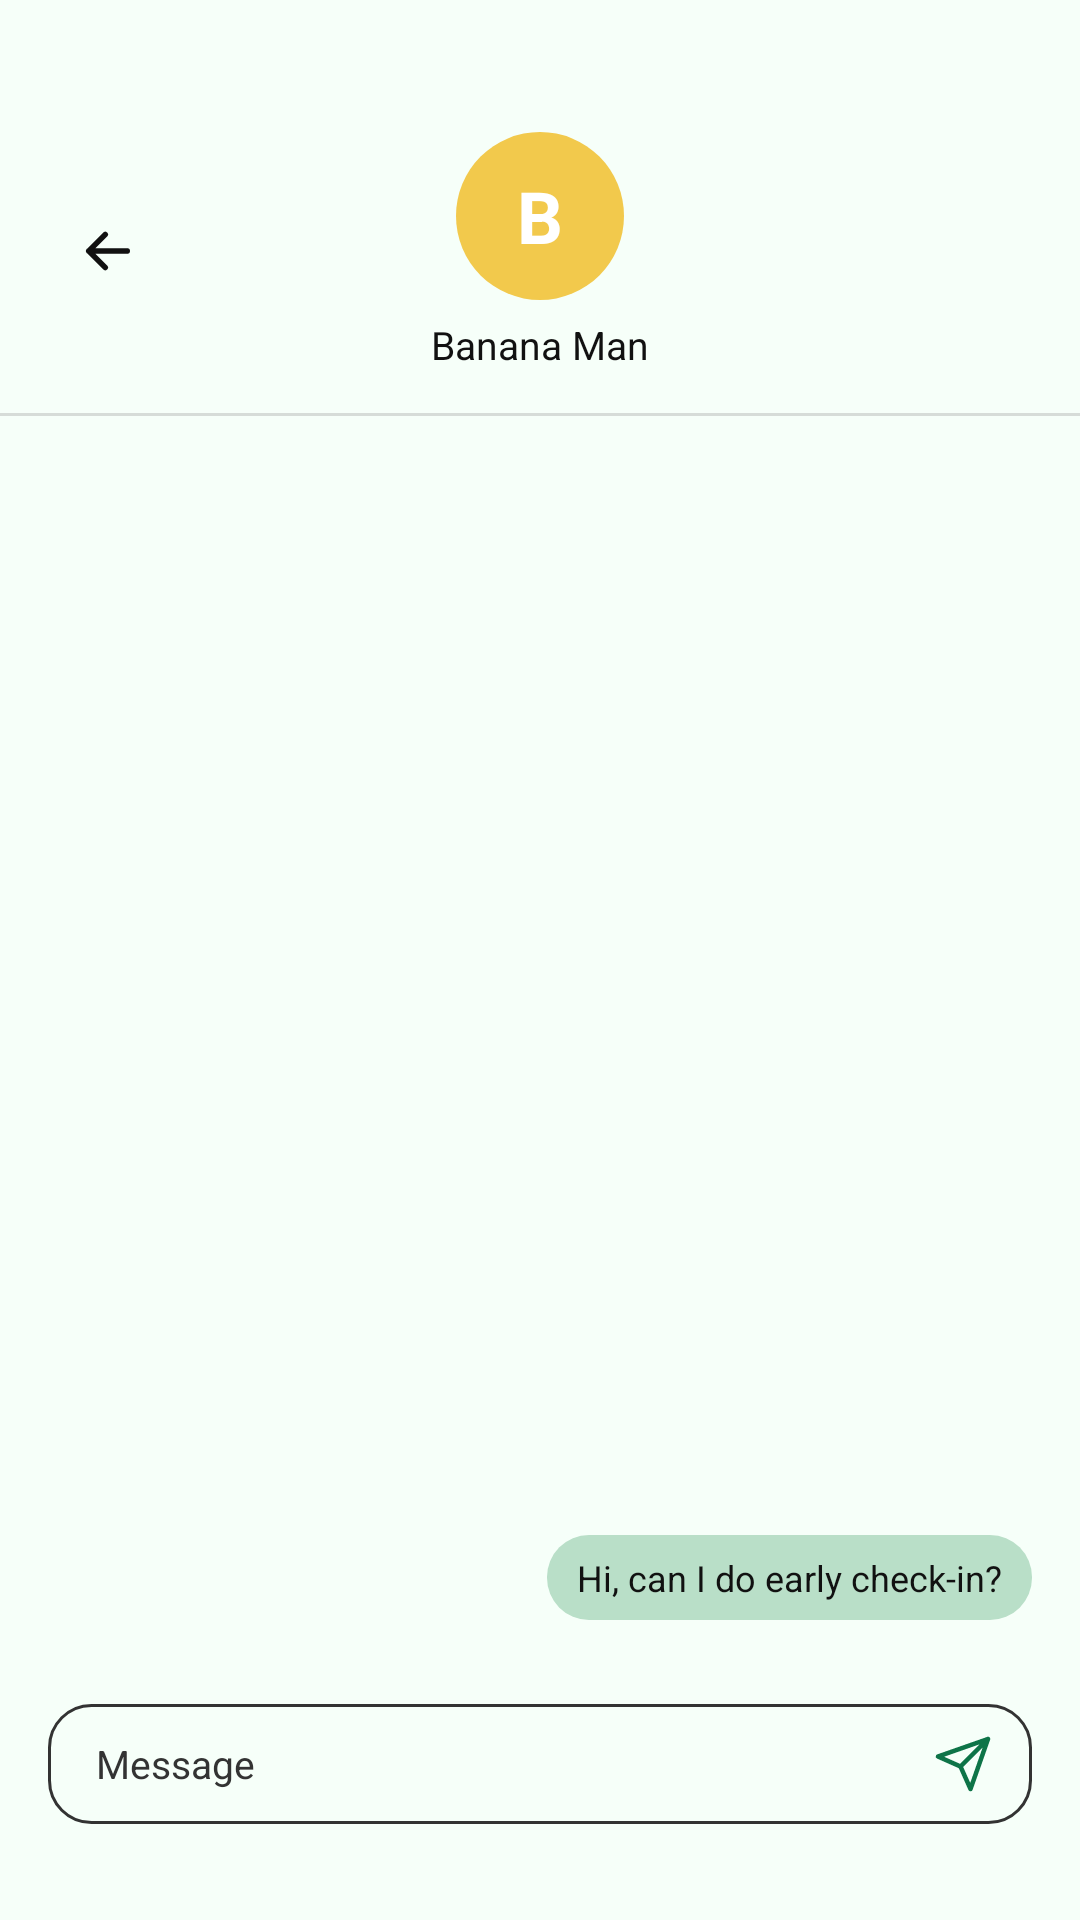

Icons on this 1080 x 1920 Android screen, each with its box as (x1, y1, x2, y2):
Back: (86, 231, 130, 271)
Send: (935, 1736, 991, 1792)
